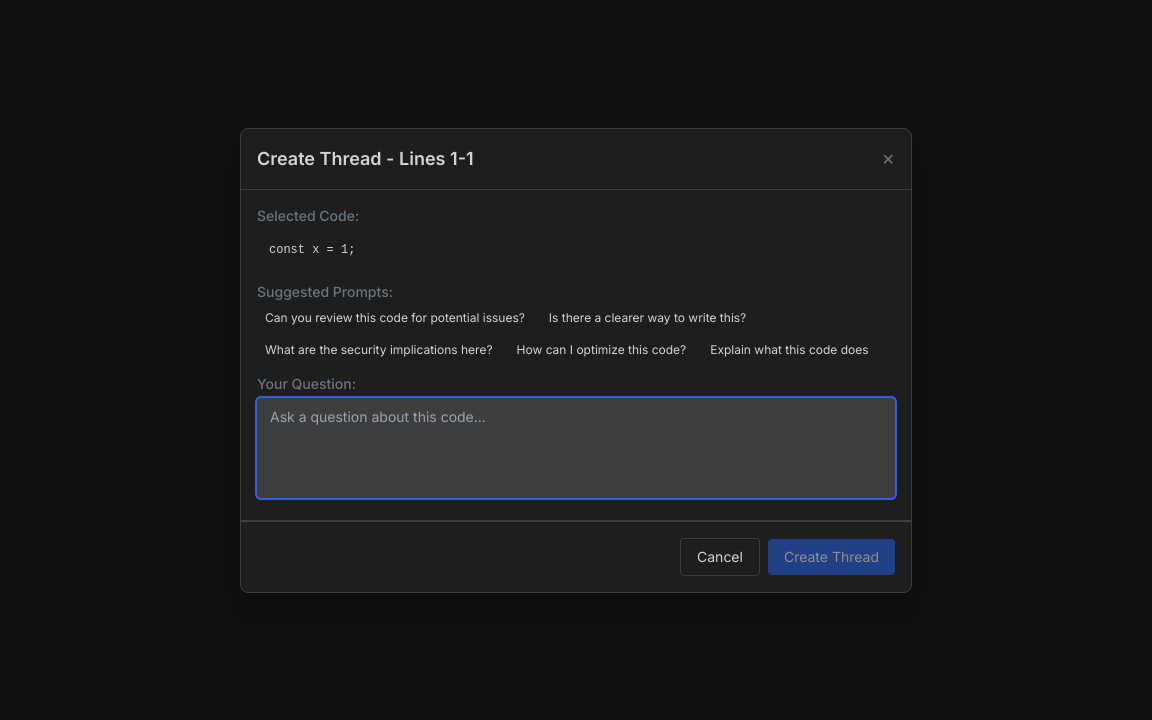
Scenario: ThreadCreationDialog › should populate textarea when suggested prompt is clicked
Click the button "Can you review this code for potential issues?" at (395, 318), box [257, 306, 533, 330]
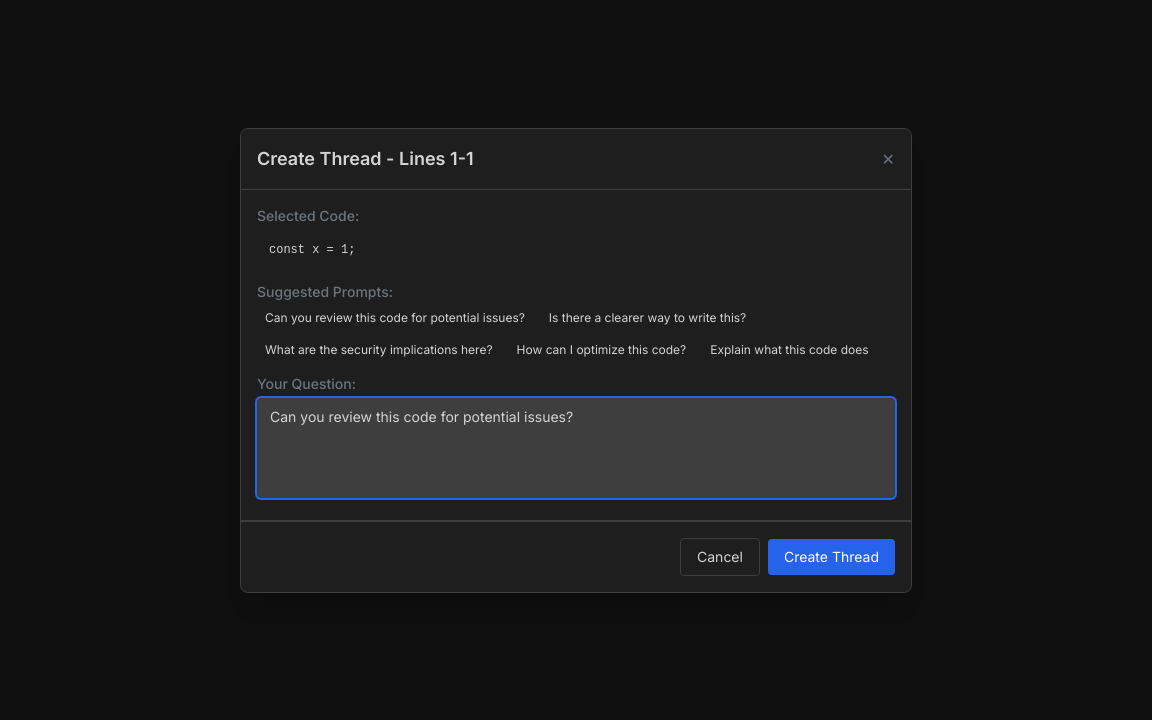
Now the text box with placeholder "Ask a question about this code..." holds "Can you review this code for potential issues?", box [257, 398, 895, 498]
